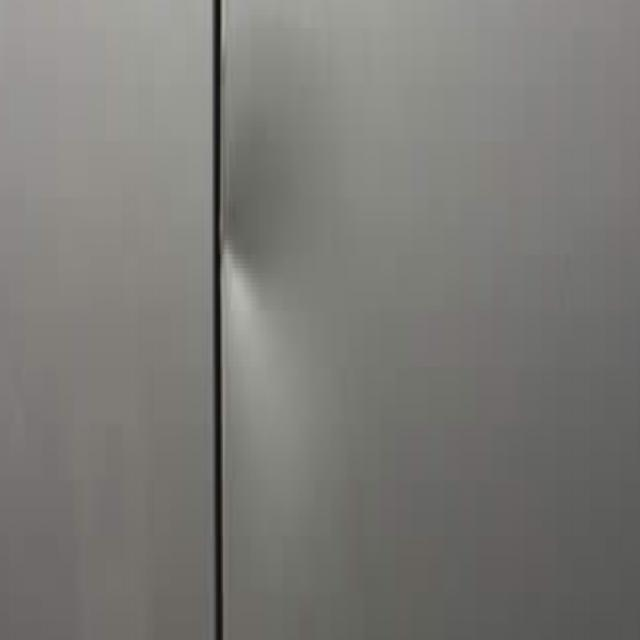dents: (221, 115, 281, 363)
